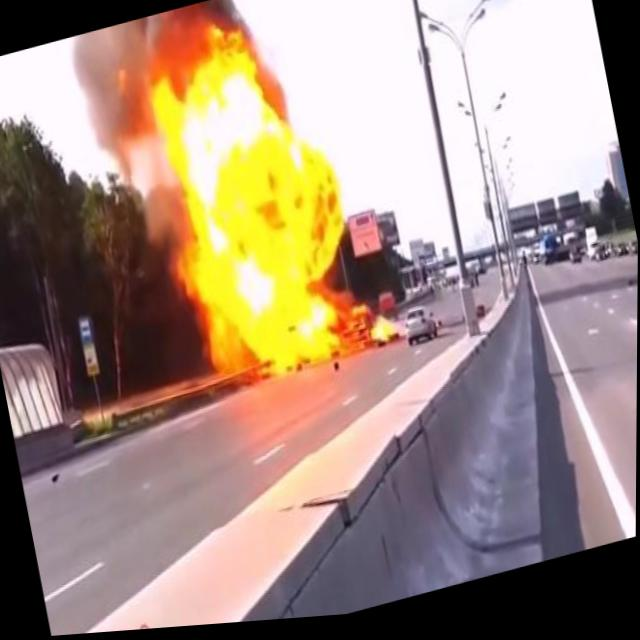fire: (131, 0, 376, 407), (366, 313, 401, 354)
